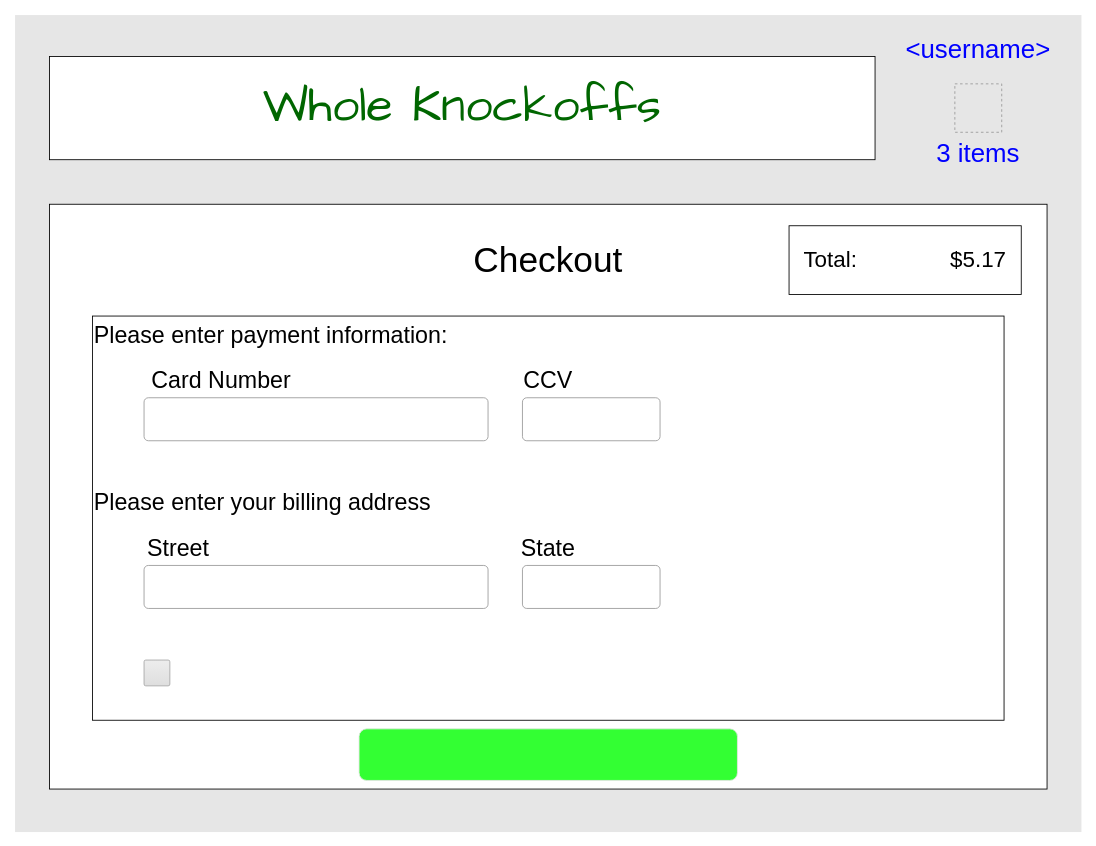
This 1096x846 diagram has some shape labels left out. Grey dashed boxes stand in for pictures. Here are the shapes that lost their labels. From the top down, the centre of each, then its label:
At (156,672): "Save my payment details for future purchases".
At (547,754): "Continue to pickup/delivery".
